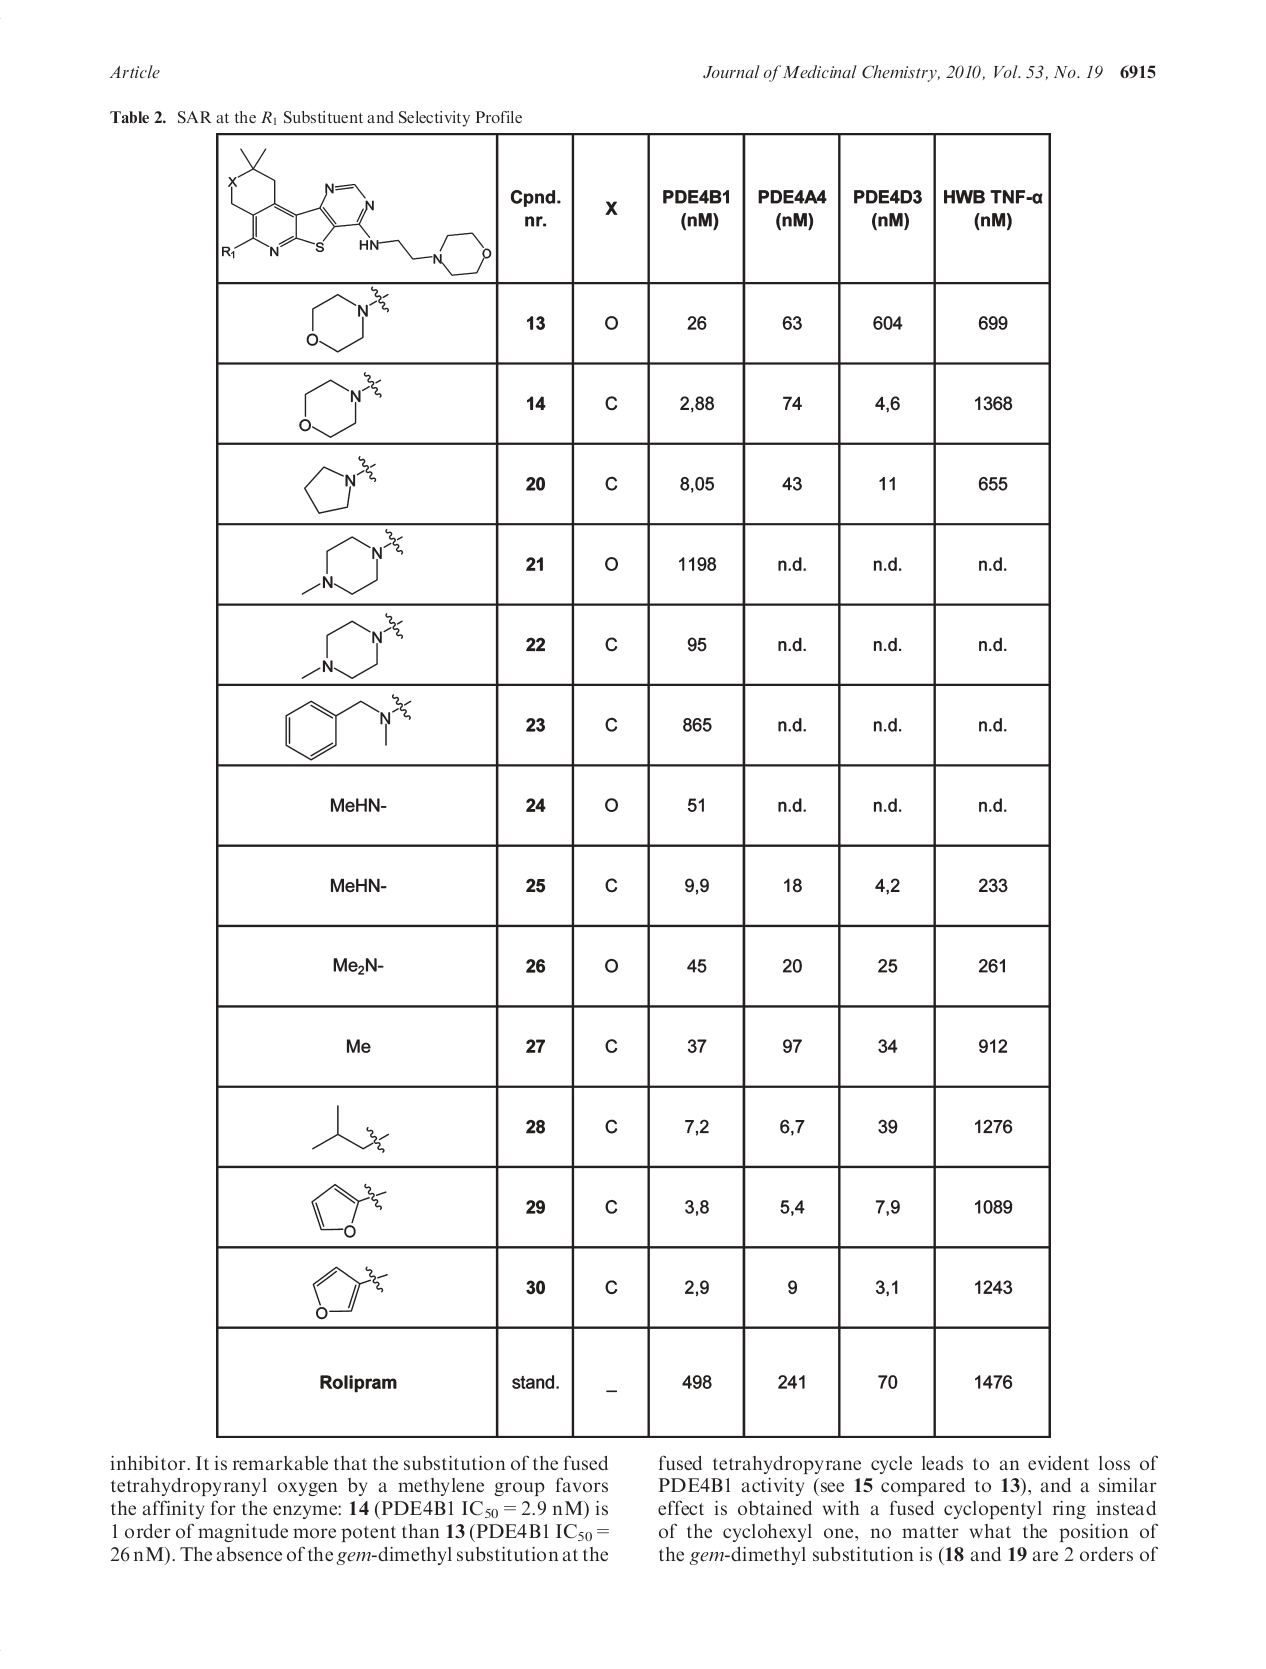exist_molecular: (219, 146, 492, 278), (283, 692, 414, 761), (298, 528, 406, 598), (299, 612, 406, 681), (298, 368, 386, 439), (305, 286, 390, 352), (303, 453, 378, 515), (311, 1181, 388, 1239), (311, 1265, 390, 1319), (311, 1102, 394, 1154)
